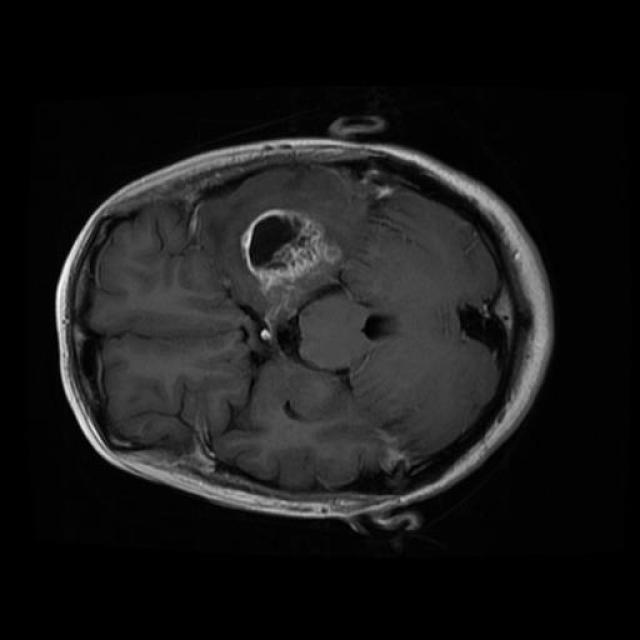Glioma: (243, 210, 343, 332)
